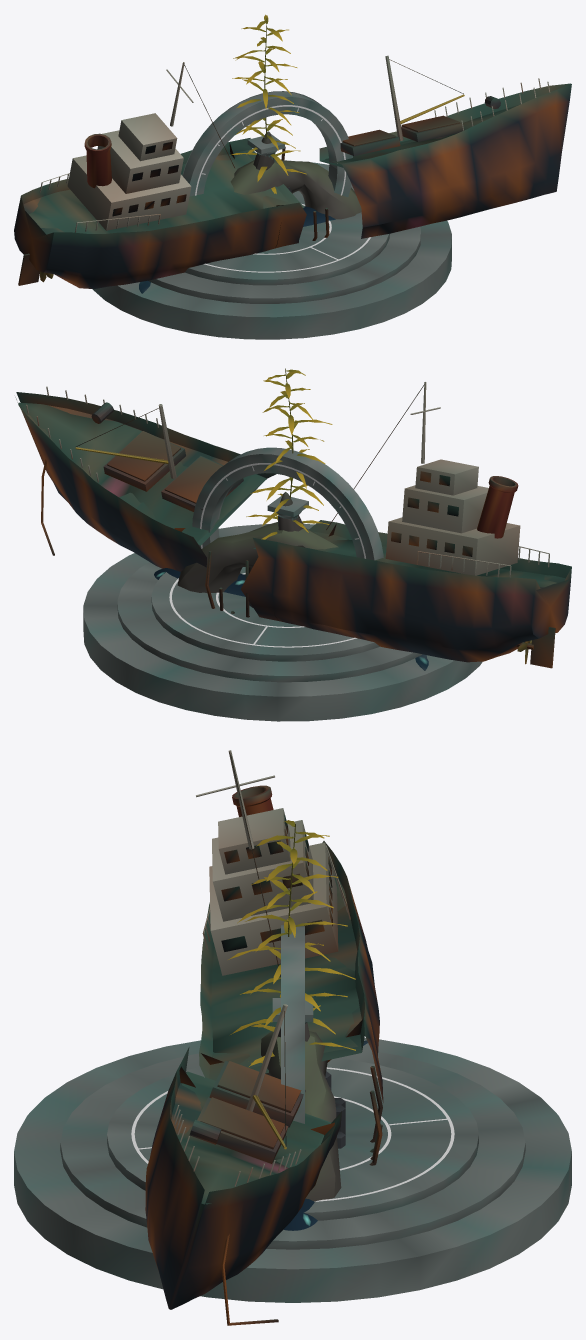
Rendered from tidebell.glb.
The picture shows the model from 3 angles, top to bottom: view 1: azimuth 30°, elevation 25°; view 2: azimuth 150°, elevation 25°; view 3: azimuth 270°, elevation 25°; orthographic projection. The views are drawn at different scales.
Parts seen in each view (by area): view 1: wreck, dais, moon_gate, rock_arch, kelp, column, whale; view 2: wreck, dais, moon_gate, rock_arch, kelp, whale, column; view 3: dais, wreck, kelp, moon_gate, rock_arch.
Boxes of the visible parts, x1,y1,x2,y2 form: wreck: (14, 55, 571, 289); dais: (92, 160, 451, 339); moon_gate: (182, 91, 352, 197); rock_arch: (230, 160, 361, 219); kelp: (230, 14, 306, 193); column: (247, 134, 284, 161); whale: (139, 206, 335, 293); wreck: (15, 382, 571, 668); dais: (83, 523, 482, 721); moon_gate: (192, 447, 383, 560); rock_arch: (177, 522, 338, 592); kelp: (246, 368, 332, 539); whale: (154, 568, 428, 670); column: (267, 496, 308, 526); dais: (14, 1038, 571, 1302); wreck: (145, 750, 383, 1325); kelp: (228, 820, 355, 1066); moon_gate: (281, 925, 304, 1123); rock_arch: (261, 1031, 341, 1201).
Size of the model in its own units: 48.41 by 23.58 by 30.
